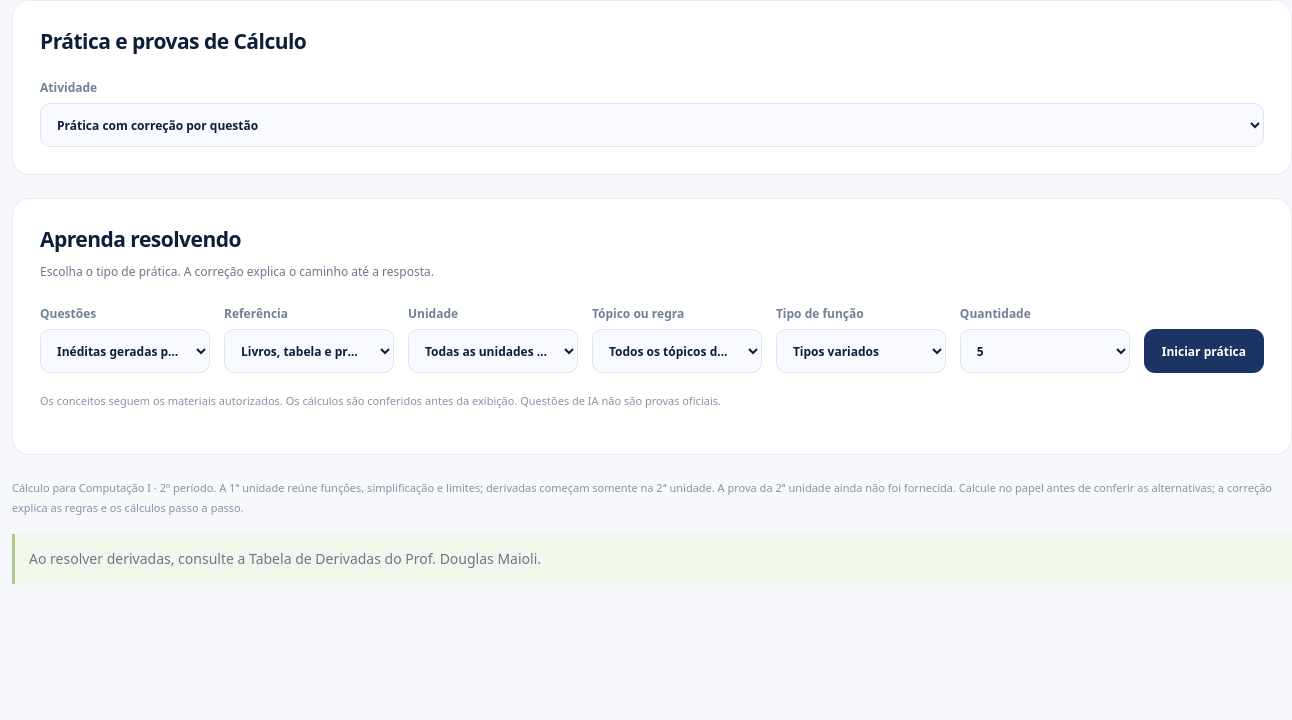
Scenario: bloqueia prova de unidade quando o catálogo está incompleto
Select "Prova da 1ª unidade" in the dropdown labelled "Atividade": (652, 126) [40,104,1264,148]
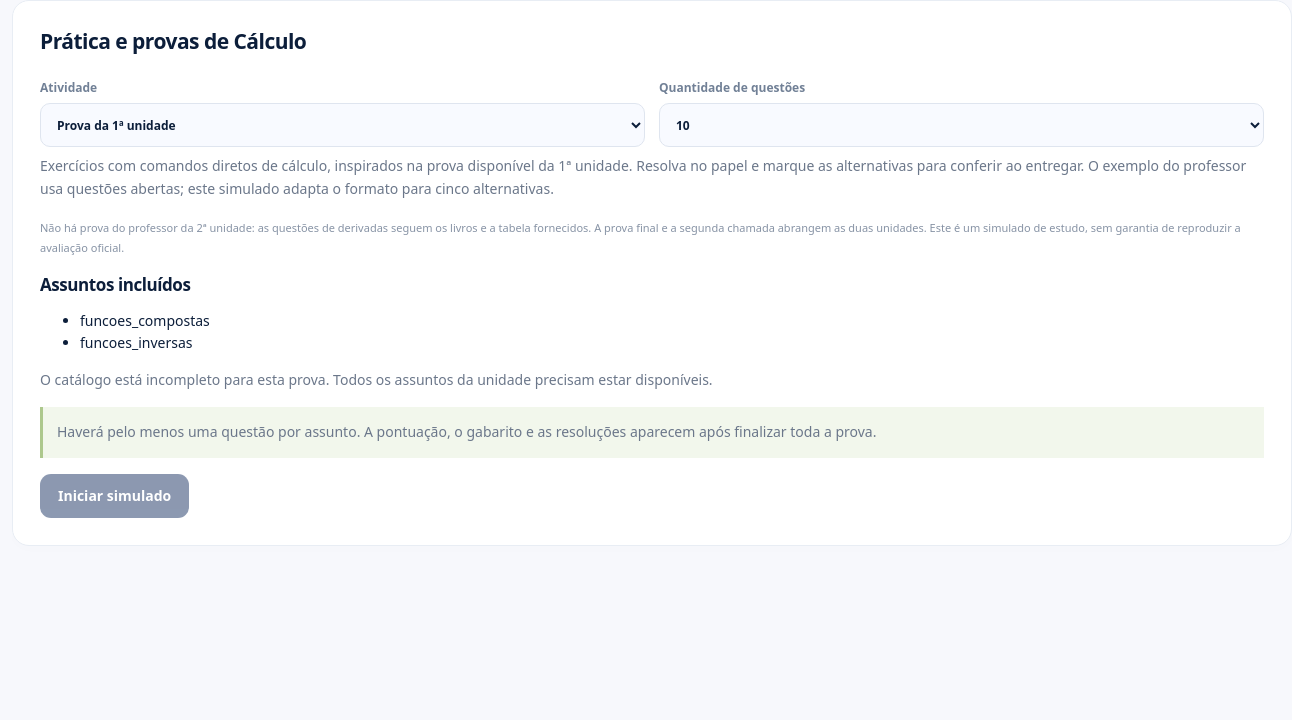
Check: the button "Iniciar simulado" is disabled, box [40,474,189,518]
Check: the message shows "catálogo está incompleto", box [40,370,713,389]
